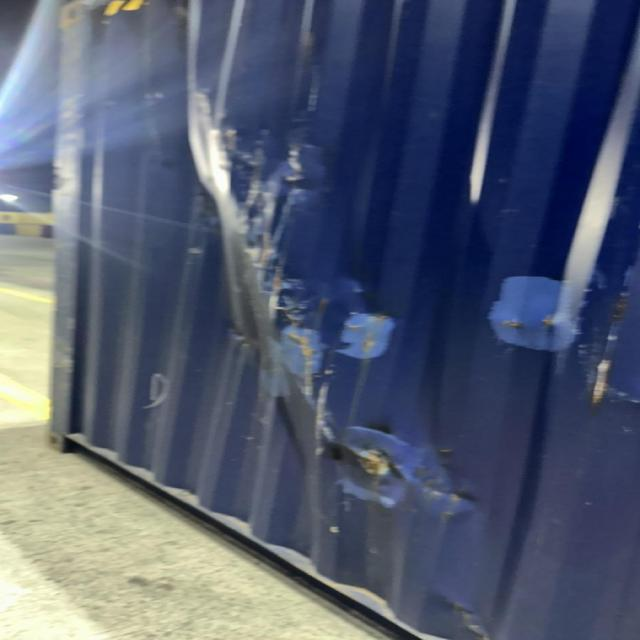dent: (130, 57, 530, 552)
